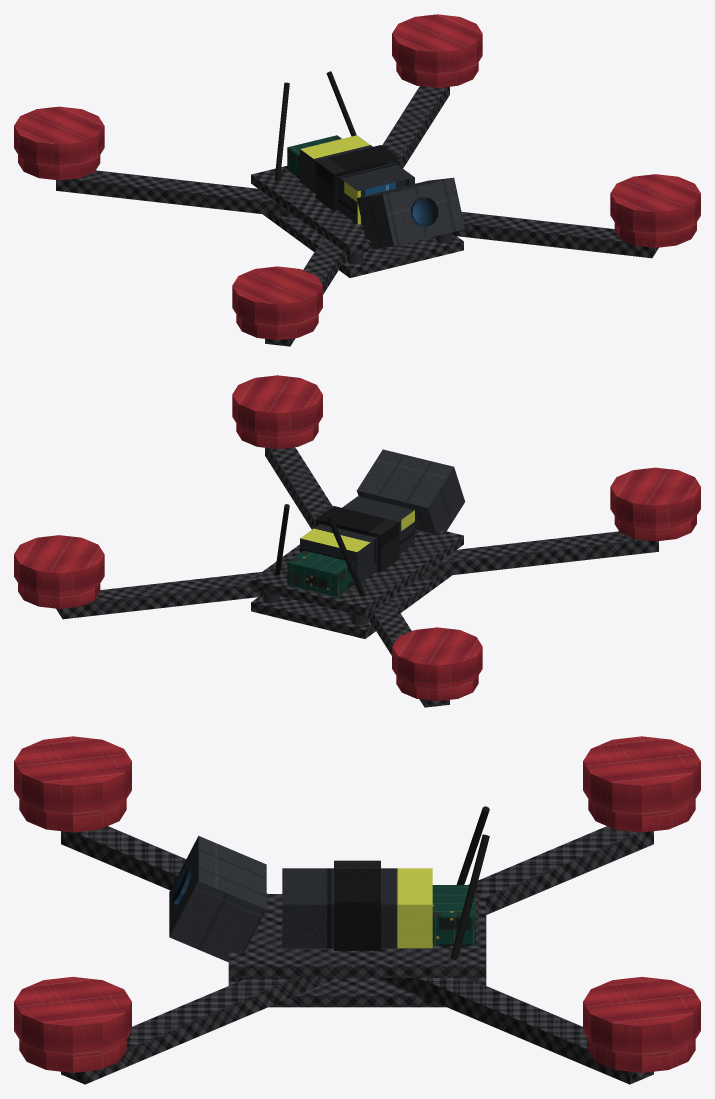
The model's file is drone_fpv.fbx.
The picture shows the model from 3 angles, top to bottom: view 1: azimuth 30°, elevation 25°; view 2: azimuth 150°, elevation 25°; view 3: azimuth 270°, elevation 25°; orthographic projection. The views are drawn at different scales.
Visible parts, largest first — view 1: DroneBody; view 2: DroneBody; view 3: DroneBody.
Part boxes in pixels (x1,y1,x2,y2): DroneBody: [14, 14, 700, 346]; DroneBody: [14, 375, 700, 707]; DroneBody: [14, 736, 700, 1084].
Bounding box in the file's own units: 16.26 × 16.26 × 3.92.
